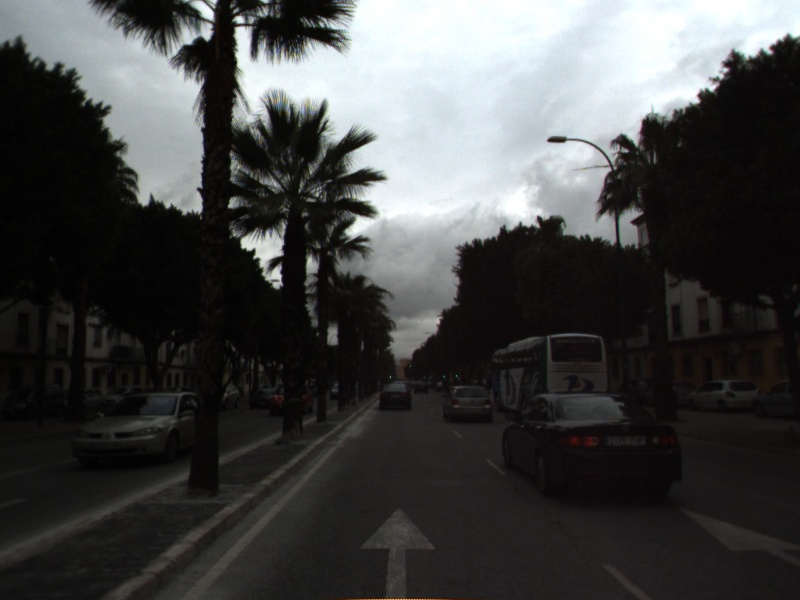STRAIGHT: (357, 504, 439, 600), (677, 505, 800, 567)
